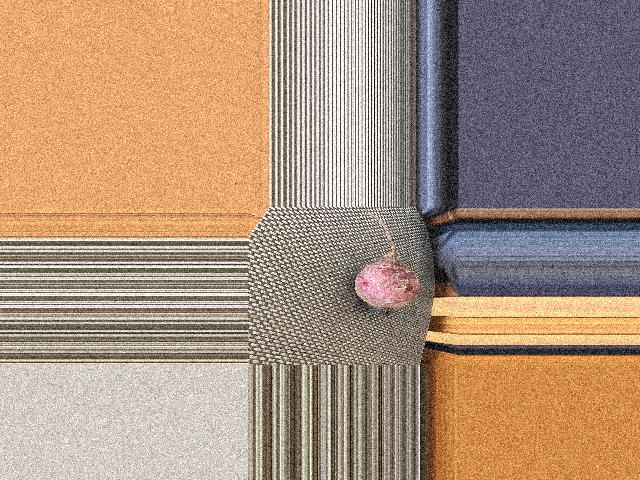beet: (355, 215, 420, 316)
